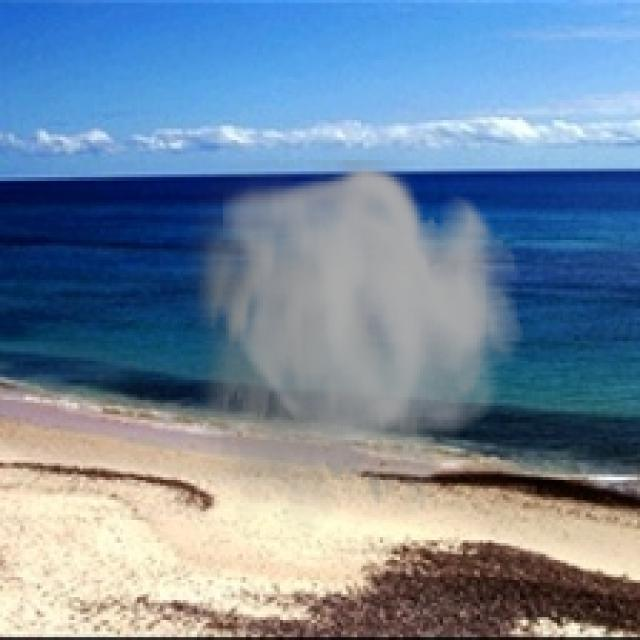Smoke: (177, 160, 523, 549)
